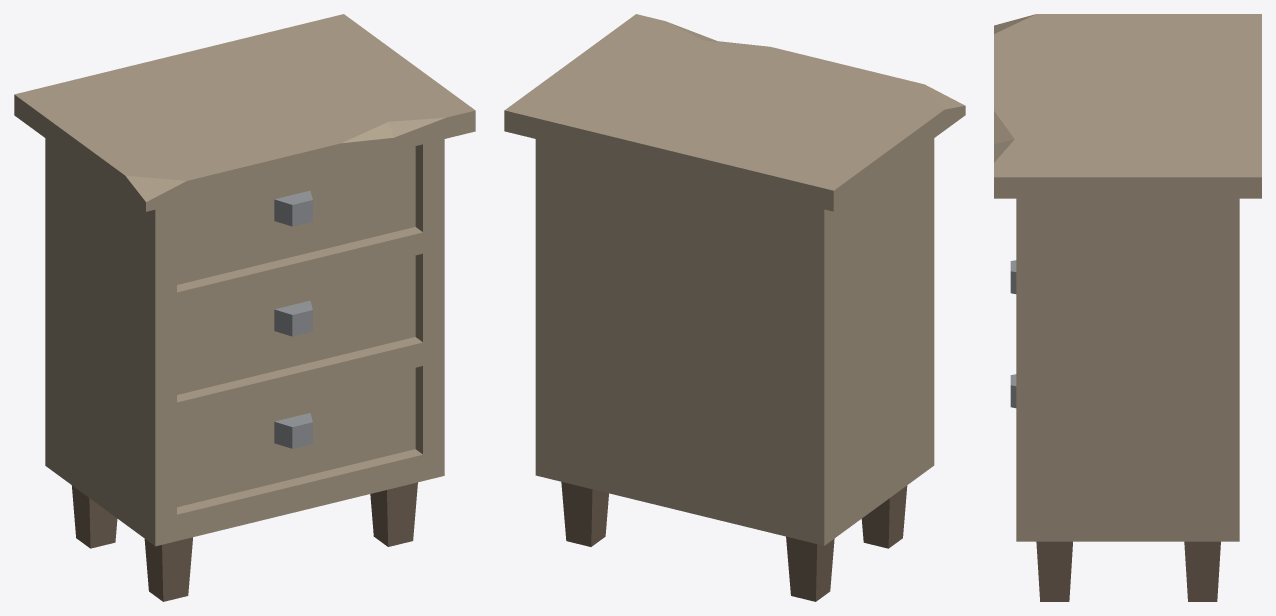
The model's file is SM_Prop_Dresser_02_Combined.fbx.
The picture shows the model from 3 angles, left to right: view 1: azimuth 30°, elevation 25°; view 2: azimuth 150°, elevation 25°; view 3: azimuth 270°, elevation 25°; orthographic projection.
Visible parts, largest first — view 1: SM_Prop_Dresser_02_Combined; view 2: SM_Prop_Dresser_02_Combined; view 3: SM_Prop_Dresser_02_Combined.
Part boxes in pixels (x1,y1,x2,y2): SM_Prop_Dresser_02_Combined: (14,14,475,601); SM_Prop_Dresser_02_Combined: (504,14,965,601); SM_Prop_Dresser_02_Combined: (994,14,1261,601).
Bounding box in the file's own units: 64.41 × 81.67 × 44.62.
